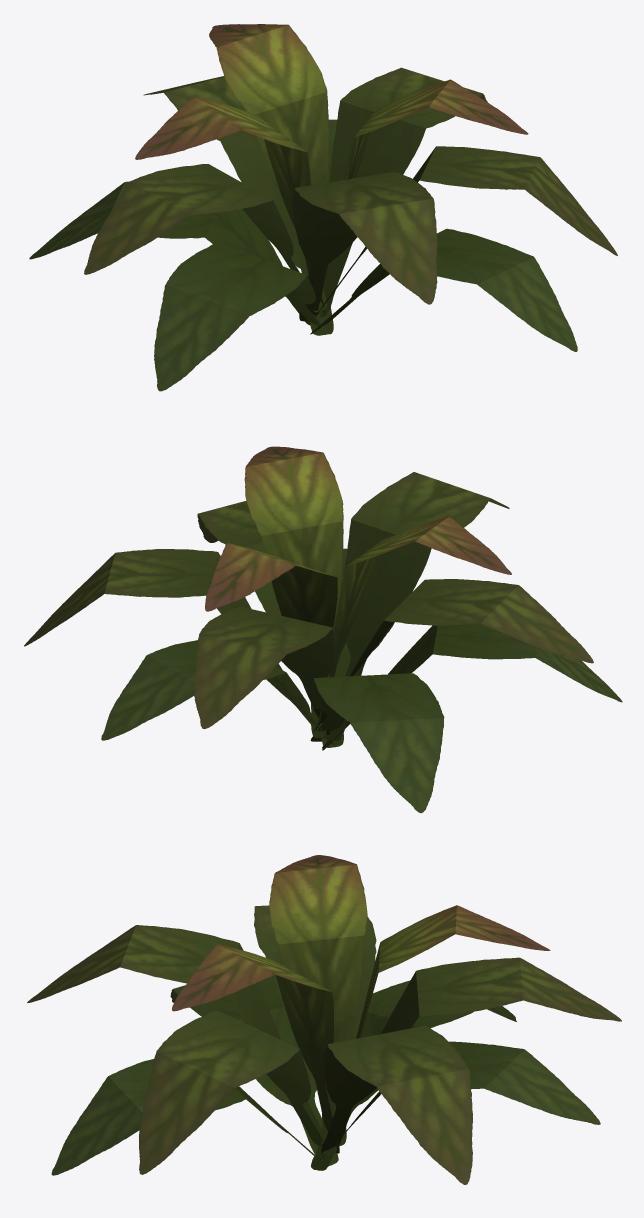
Rendered from broadleaf_04.fbx.
3 views of the same model, one above another, from view 1: azimuth 30°, elevation 25°; view 2: azimuth 150°, elevation 25°; view 3: azimuth 270°, elevation 25° (orthographic). The views are drawn at different scales.
Visible parts, largest first — view 1: obj0.079; view 2: obj0.079; view 3: obj0.079.
Boxes of the visible parts, <box> form: obj0.079: <box>29,24,617,391</box>; obj0.079: <box>24,446,622,813</box>; obj0.079: <box>27,855,621,1184</box>.
Bounding box in the file's own units: 2.33 × 1.07 × 2.33.
